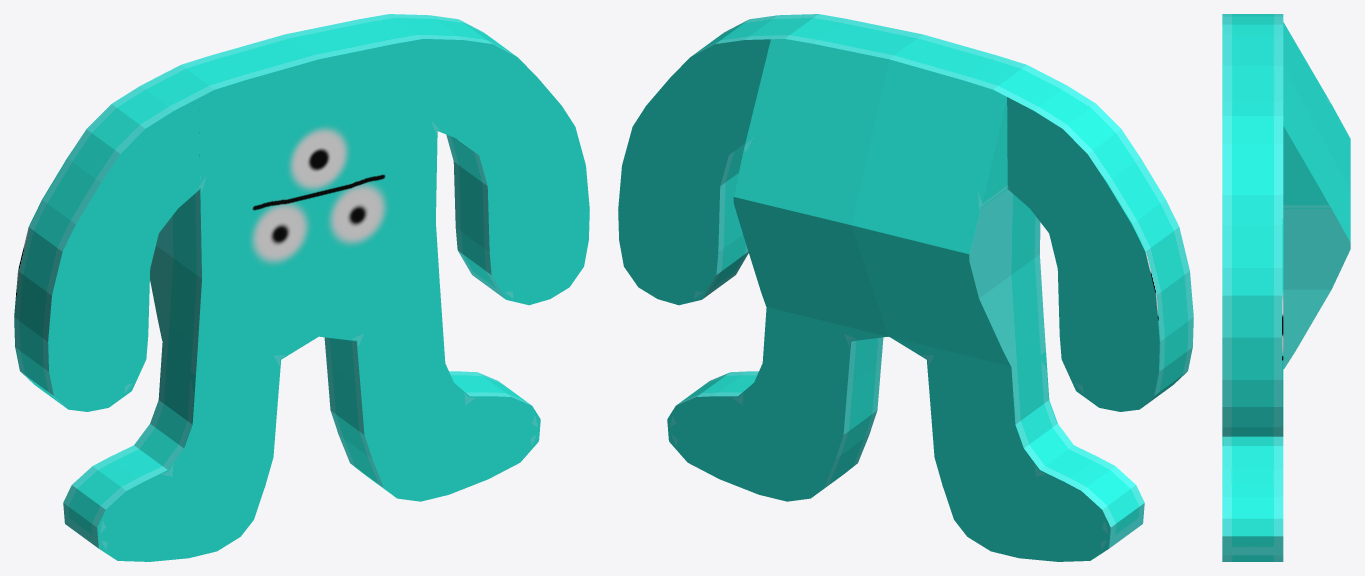
Rendered from newnewmainchar.fbx.
3 views of the same model, side by side, from view 1: azimuth 30°, elevation 25°; view 2: azimuth 150°, elevation 25°; view 3: azimuth 270°, elevation 25° (orthographic). The views are drawn at different scales.
Visible parts, largest first — view 1: Cube, Cube.001, Cube.003, Cube.004, Cube.002, Cube.005; view 2: Cube, Cube.001, Cube.003, Cube.002, Cube.004, Cube.005; view 3: Cube.004, Cube.003, Cube.005, Cube, Cube.001.
Part boxes in pixels (x1=…): Cube: x1=150, y1=34, x2=318, y2=373; Cube.001: x1=14, y1=65, x2=214, y2=411; Cube.003: x1=285, y1=14, x2=441, y2=341; Cube.004: x1=389, y1=14, x2=589, y2=305; Cube.002: x1=63, y1=322, x2=280, y2=561; Cube.005: x1=324, y1=293, x2=540, y2=501; Cube: x1=851, y1=34, x2=1043, y2=366; Cube.001: x1=993, y1=65, x2=1193, y2=411; Cube.003: x1=733, y1=14, x2=922, y2=336; Cube.002: x1=890, y1=322, x2=1144, y2=561; Cube.004: x1=618, y1=14, x2=818, y2=305; Cube.005: x1=667, y1=307, x2=887, y2=501; Cube.004: x1=1222, y1=116, x2=1283, y2=436; Cube.003: x1=1222, y1=65, x2=1350, y2=369; Cube.005: x1=1222, y1=436, x2=1283, y2=561; Cube: x1=1222, y1=22, x2=1350, y2=189; Cube.001: x1=1222, y1=14, x2=1283, y2=24.
Size of the model in its own units: 443 by 365 by 101.
1 material, 1 textured.
